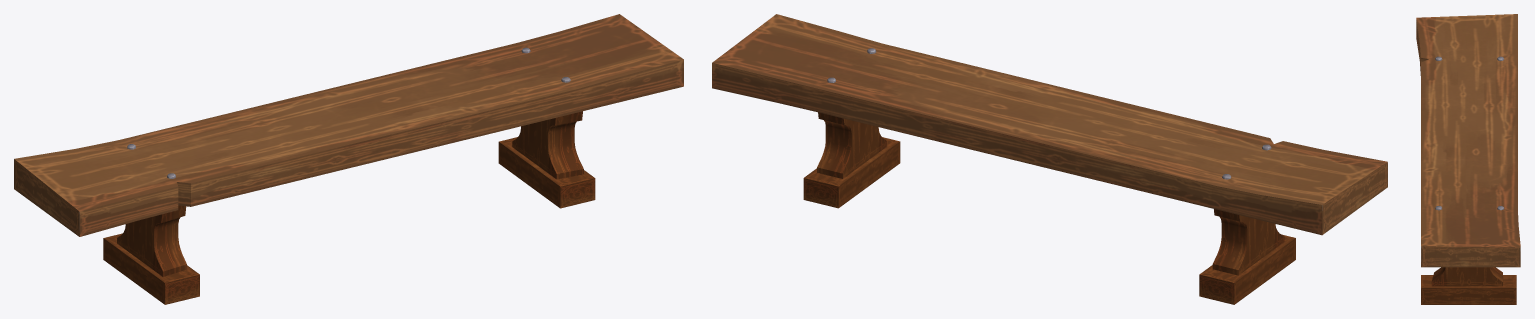
Rendered from Bench.gltf.
3 views of the same model, side by side, from view 1: azimuth 30°, elevation 25°; view 2: azimuth 150°, elevation 25°; view 3: azimuth 270°, elevation 25° (orthographic). The views are drawn at different scales.
Visible parts, largest first — view 1: Bench; view 2: Bench; view 3: Bench.
Boxes of the visible parts, x1,y1,x2,y2 form: Bench: [14, 14, 683, 304]; Bench: [712, 14, 1387, 304]; Bench: [1416, 14, 1520, 304].
Bounding box in the file's own units: 2.78 × 0.5332 × 0.5342.
2 materials, 2 textured.
